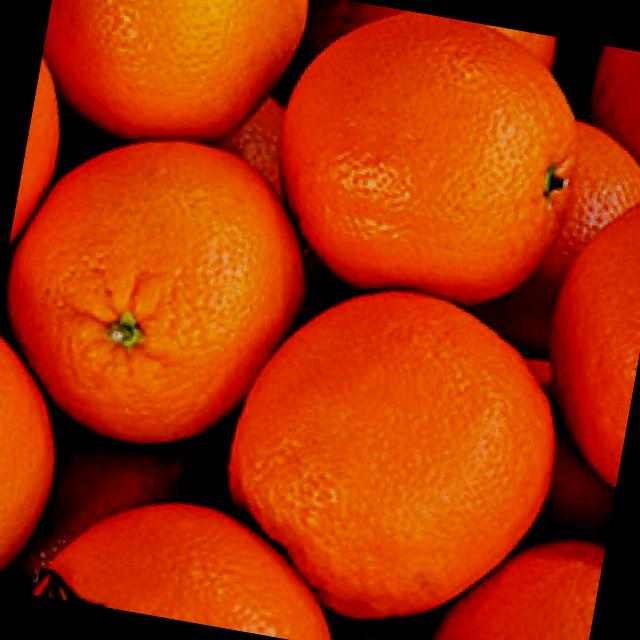orange: (208, 254, 577, 640), (0, 103, 361, 476), (252, 0, 570, 327), (22, 466, 352, 640), (30, 0, 337, 172)
